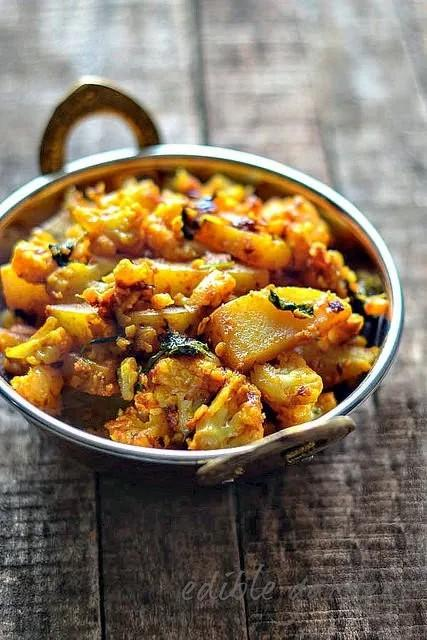AlooGobi: (0, 166, 389, 450)
